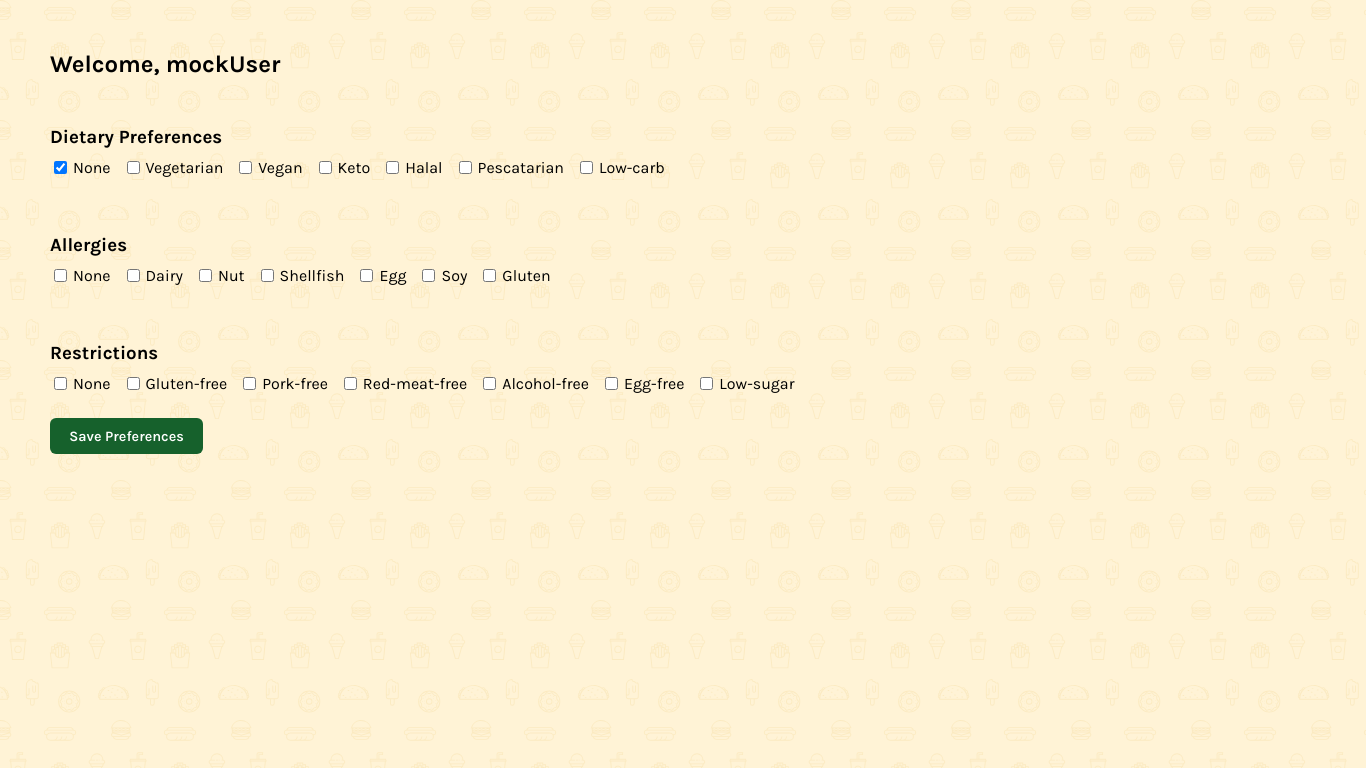
Test: MainPage › selecting a dietary pref option unchecks "None"
Expected: the heading "Welcome, mockUser" is shown, [50,50,280,78]
Expected: the checkbox labelled "None" in the row of "Vegetarian" is checked, [54,161,67,174]
Click the checkbox labelled "Halal".
click(393, 167)  # box [386,161,399,174]
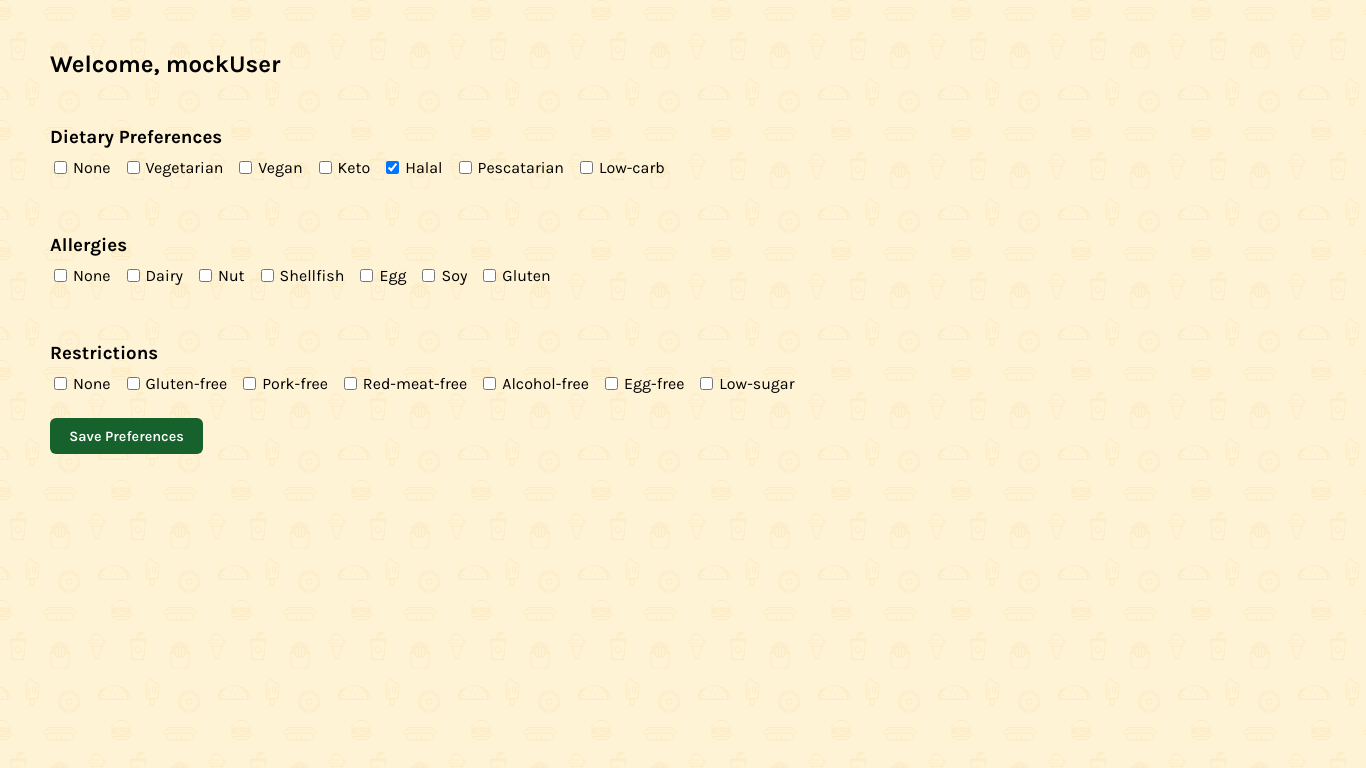
Result: the checkbox labelled "Halal" is checked at [386,161,399,174]
Result: the checkbox labelled "None" in the row of "Vegetarian" is not checked at [54,161,67,174]
